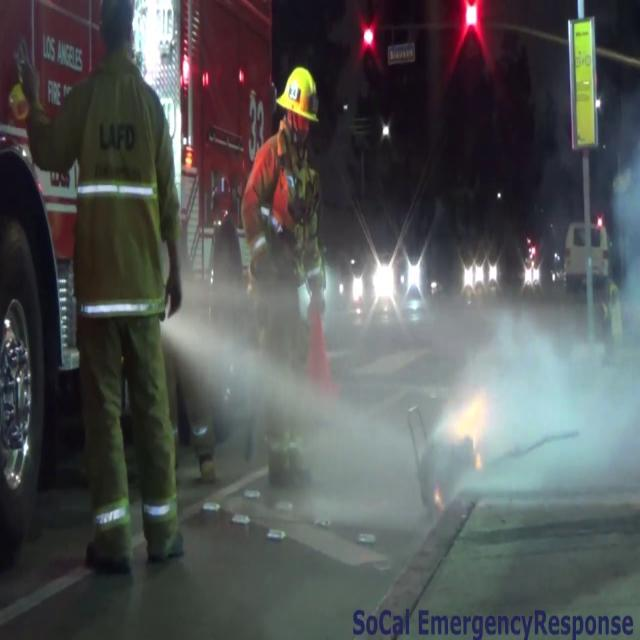Smoke: (436, 312, 640, 528)
